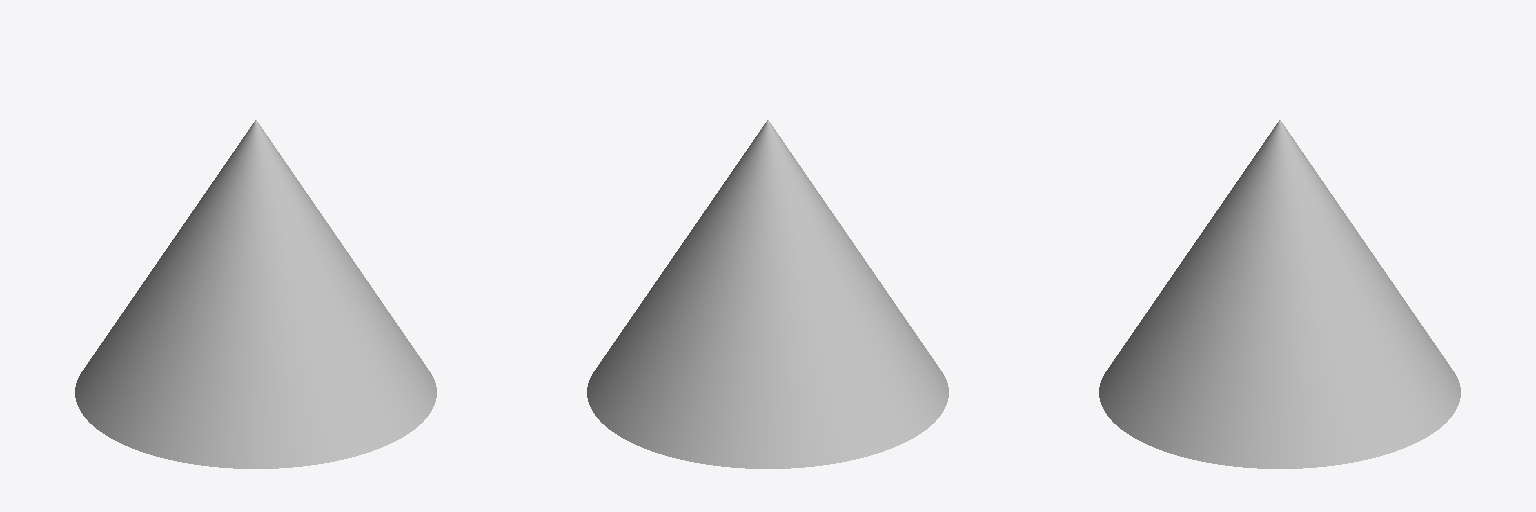
The model's file is cone_origin_at_center_of_bottom.obj.
3 views of the same model, side by side, from view 1: azimuth 30°, elevation 25°; view 2: azimuth 150°, elevation 25°; view 3: azimuth 270°, elevation 25° (orthographic).
Visible parts, largest first — view 1: Cone; view 2: Cone; view 3: Cone.
Part boxes in pixels (x1,y1,x2,y2): Cone: (75,120,436,468); Cone: (587,120,948,468); Cone: (1099,120,1460,468).
Bounding box in the file's own units: 0.06 × 0.05 × 0.06.